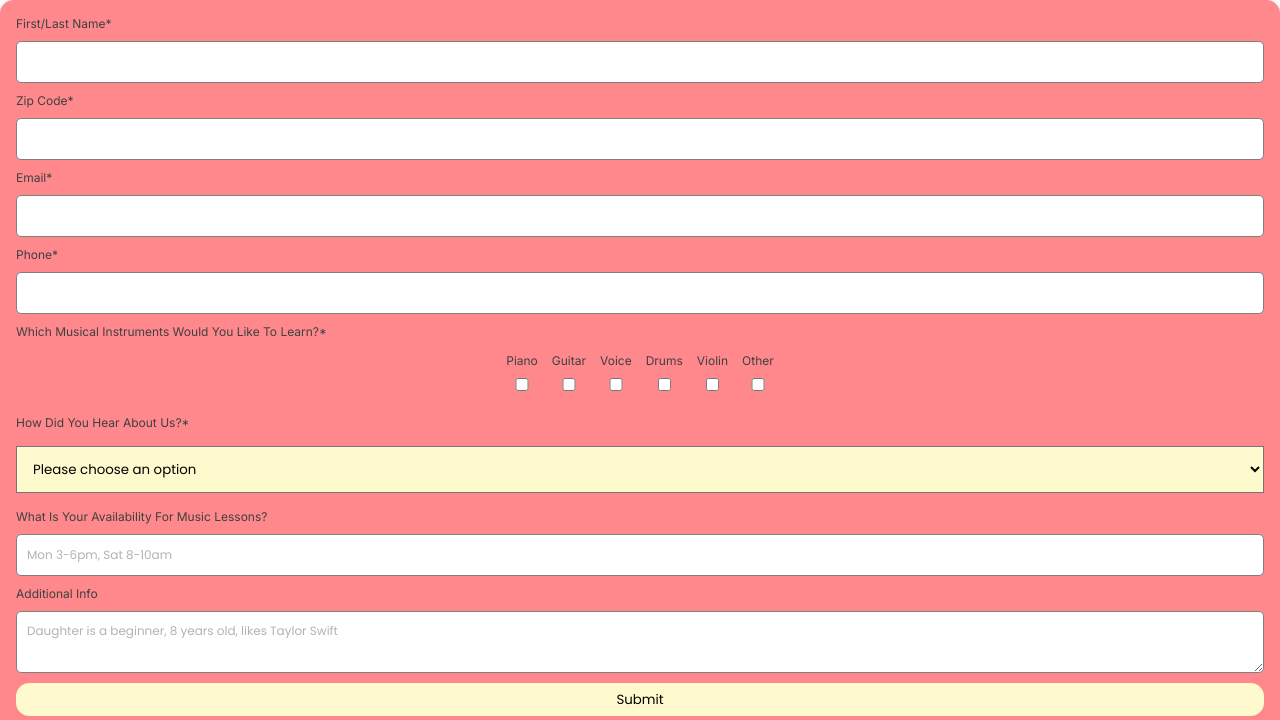
Test case: Form Input › validiation errors › renders the fullname validation error
Type "i" into the field with test id "fullName".
click(640, 62); type("i")  # box [16,41,1264,83]
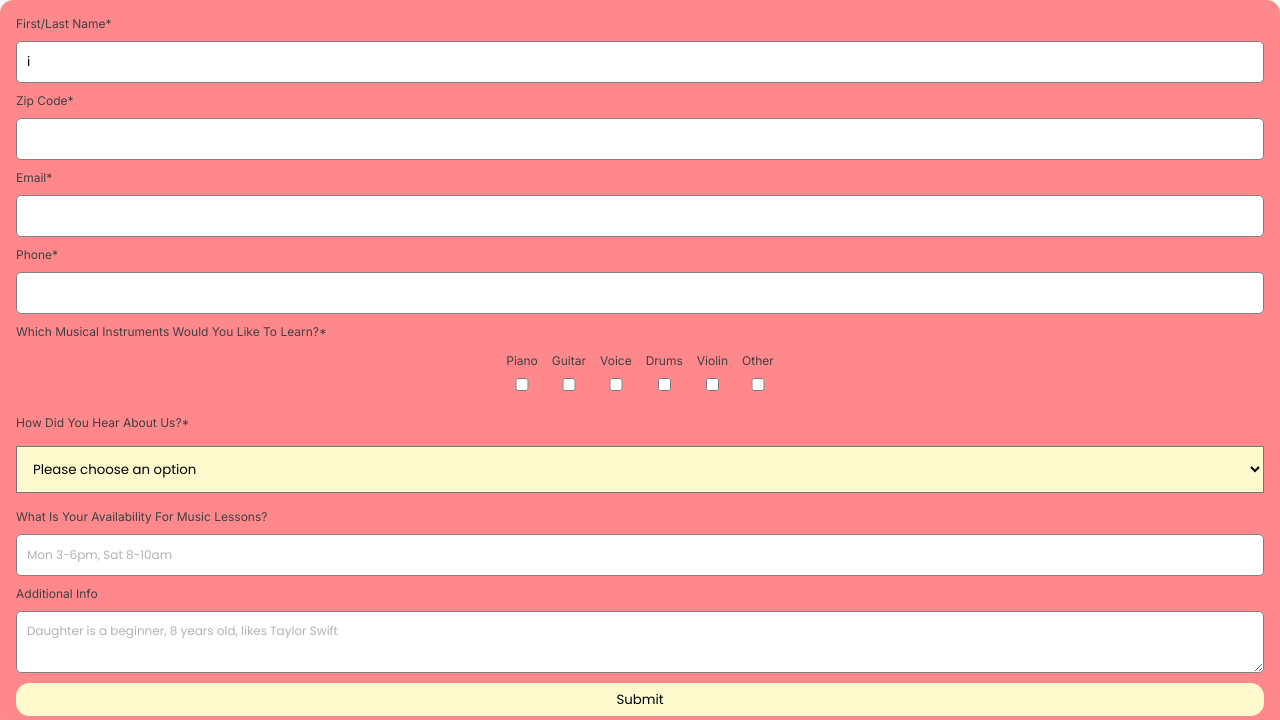
Click the button.
click(640, 700)  # box [16,683,1264,716]
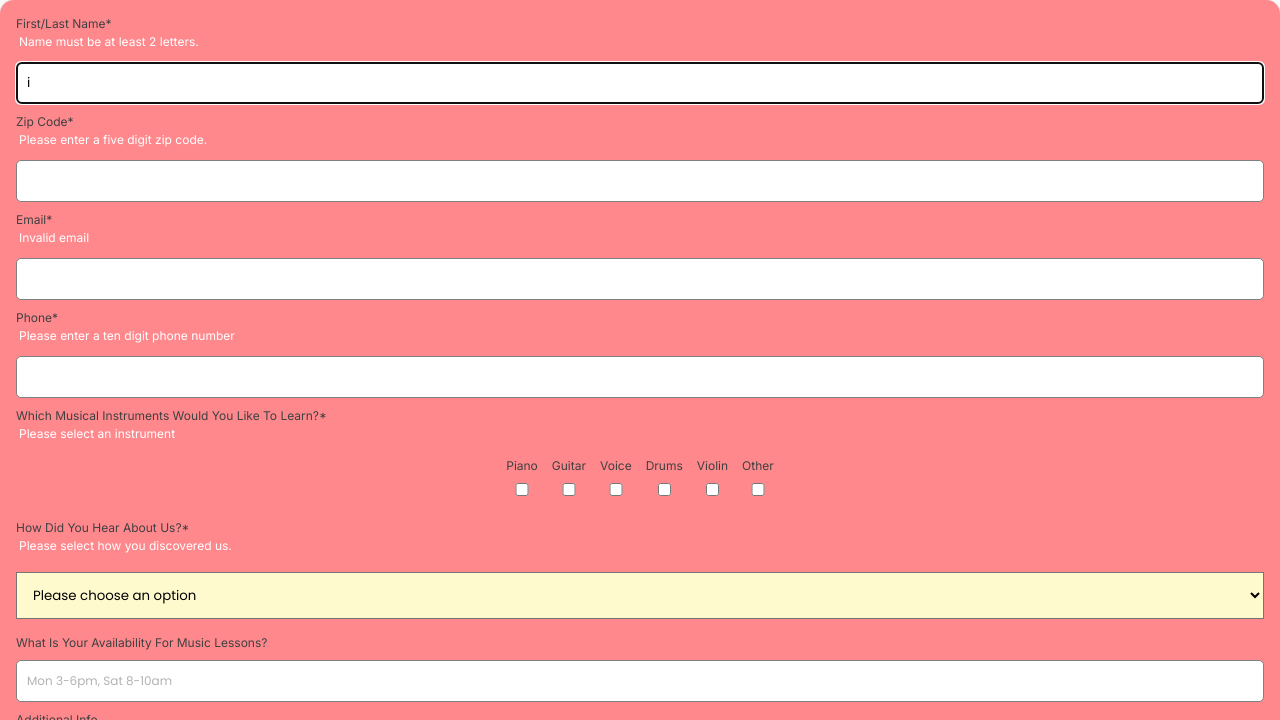
Result: the text "Name must be at least 2 letters." is shown at [19,34,199,49]
